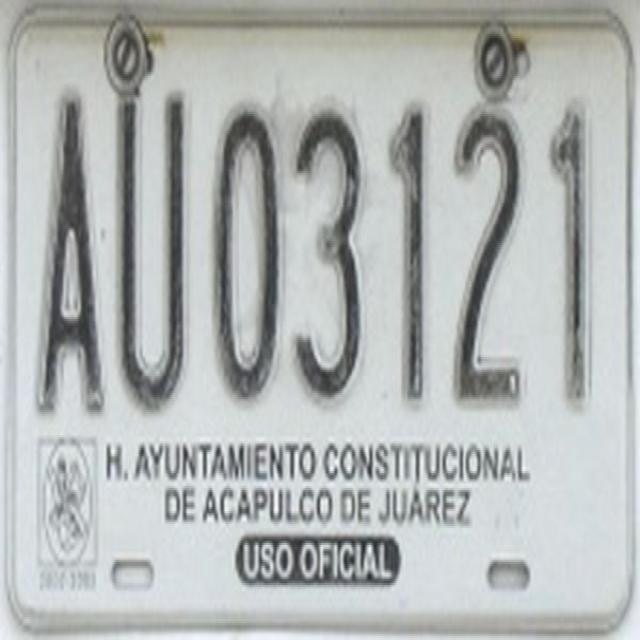placa: (18, 70, 625, 420)
